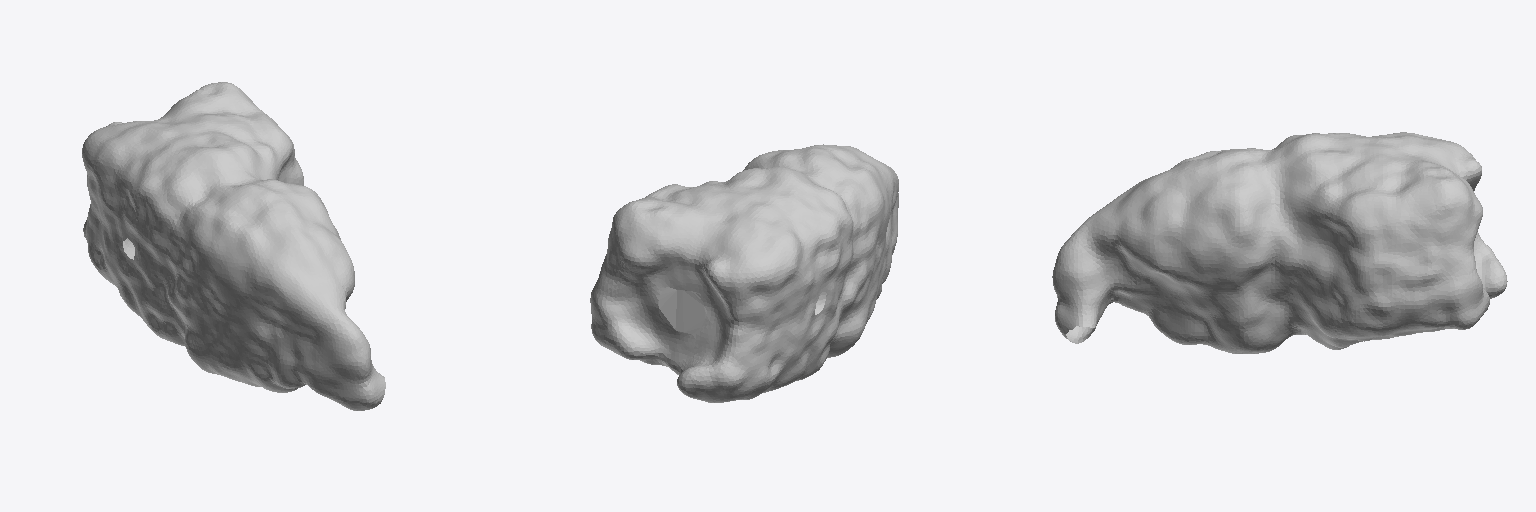
The model's file is mesh_1_cylinder_cut_non_centered.obj.
The picture shows the model from 3 angles: view 1: azimuth 30°, elevation 25°; view 2: azimuth 150°, elevation 25°; view 3: azimuth 270°, elevation 25°; orthographic projection.
Visible parts, largest first — view 1: mesh_01; view 2: mesh_01; view 3: mesh_01.
Part boxes in pixels (bbox=[...]): mesh_01: bbox=[82, 82, 385, 410]; mesh_01: bbox=[590, 144, 898, 402]; mesh_01: bbox=[1052, 132, 1507, 353].
Bounding box in the file's own units: 455 × 465 × 928.